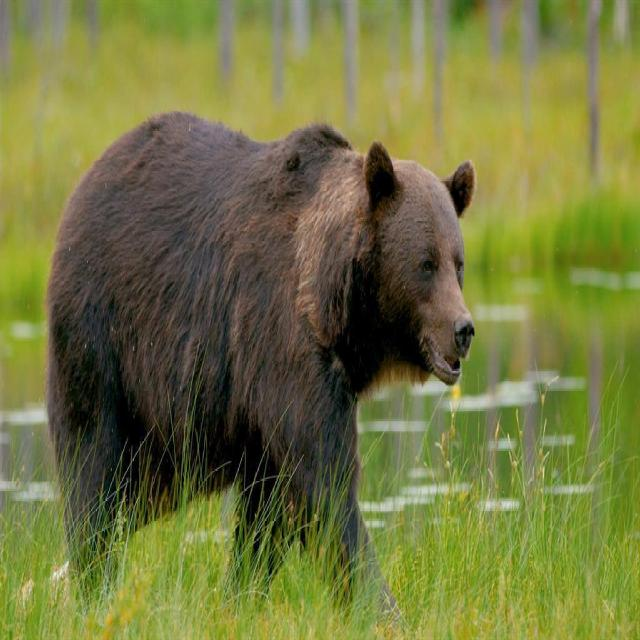Bear: (44, 110, 477, 580)
